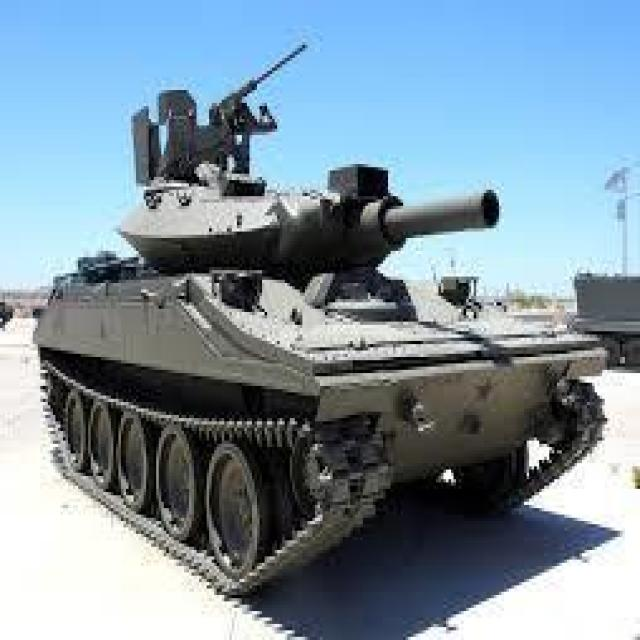Tanks: (38, 220, 567, 597)
